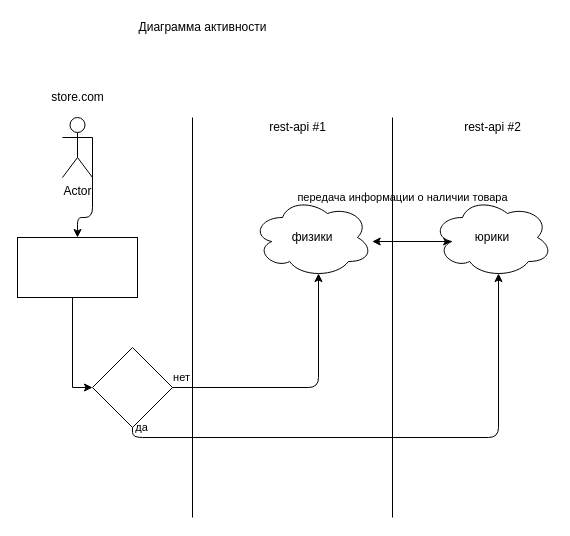
Some shapes in this 570 by 536 pixel diagram are drawn without their labels. The centre of each missing label's shape, as x and y in pixels:
"оптовик" goes at [132,387].
"сделал заказ" goes at [77,267].
